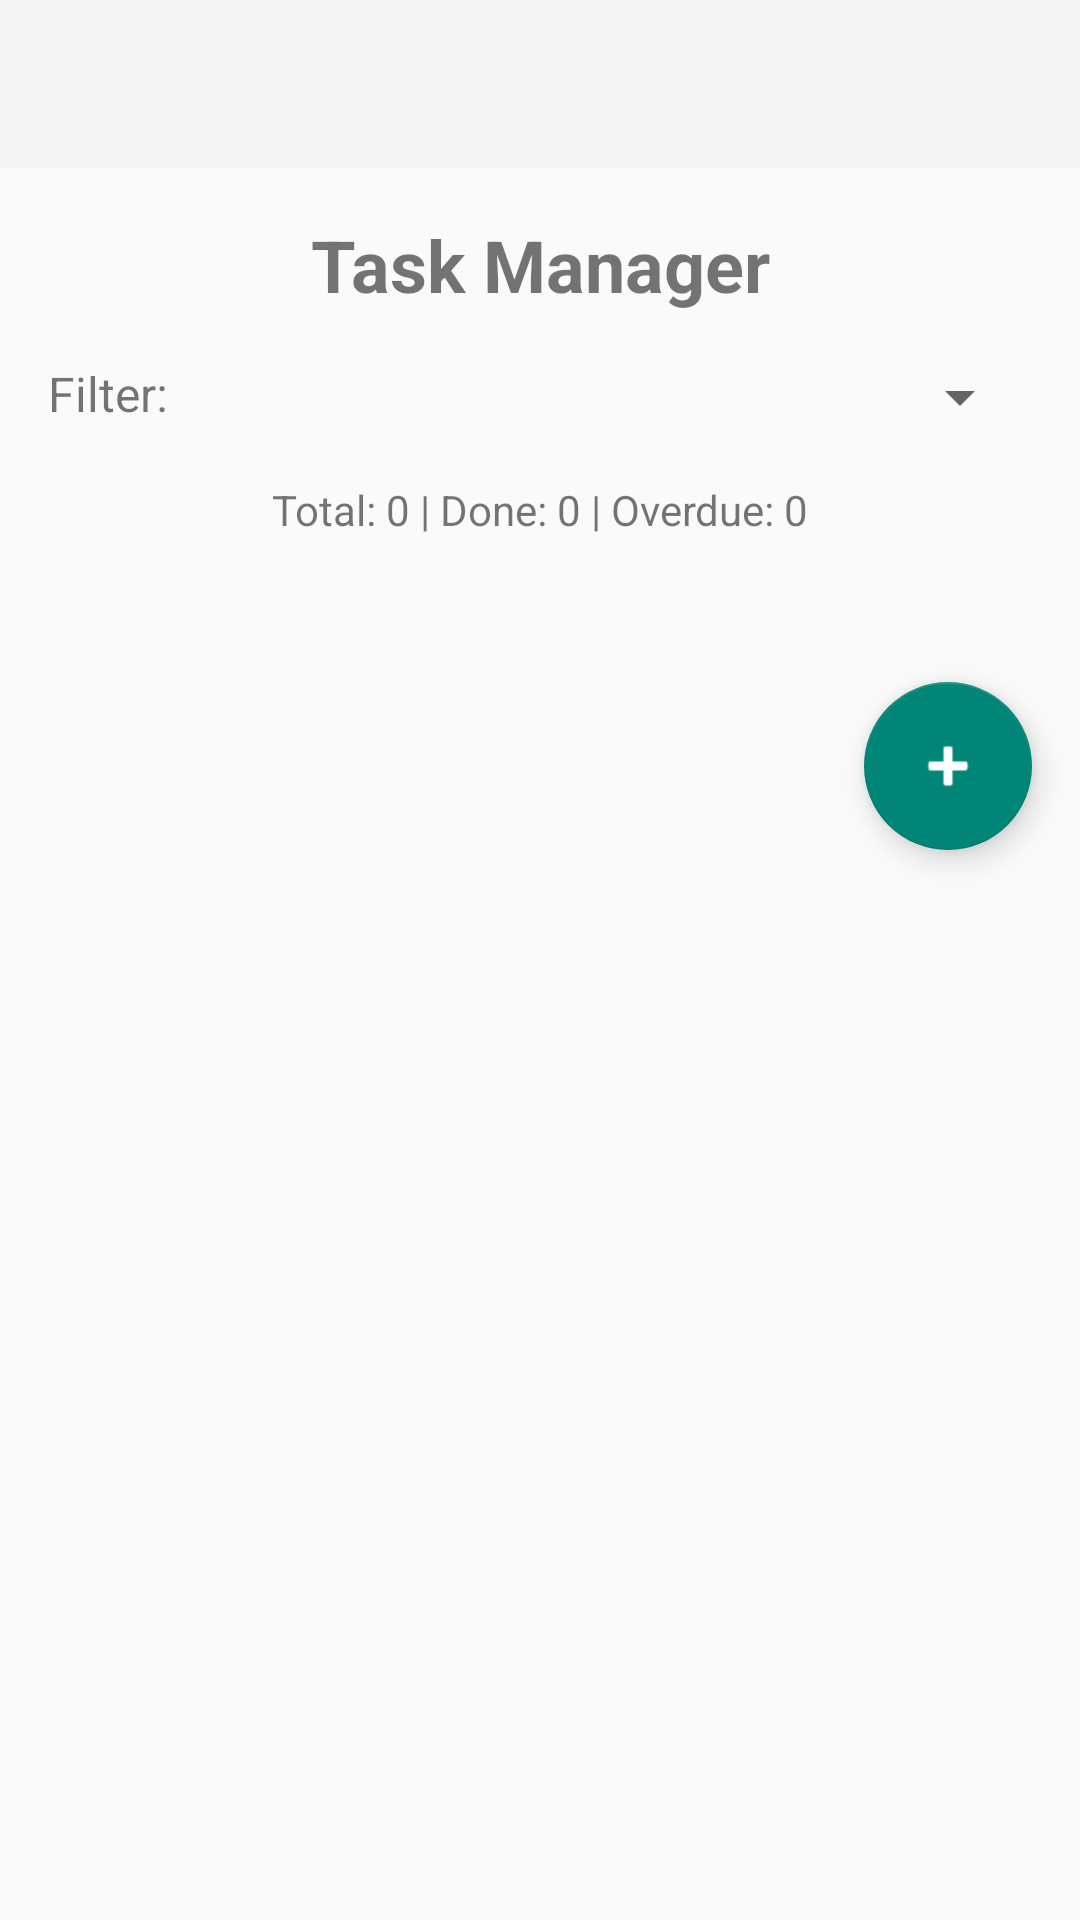

Icons on this 1080 x 1920 Android screen, each with the point to tap as (x,y):
add: (948,766)
